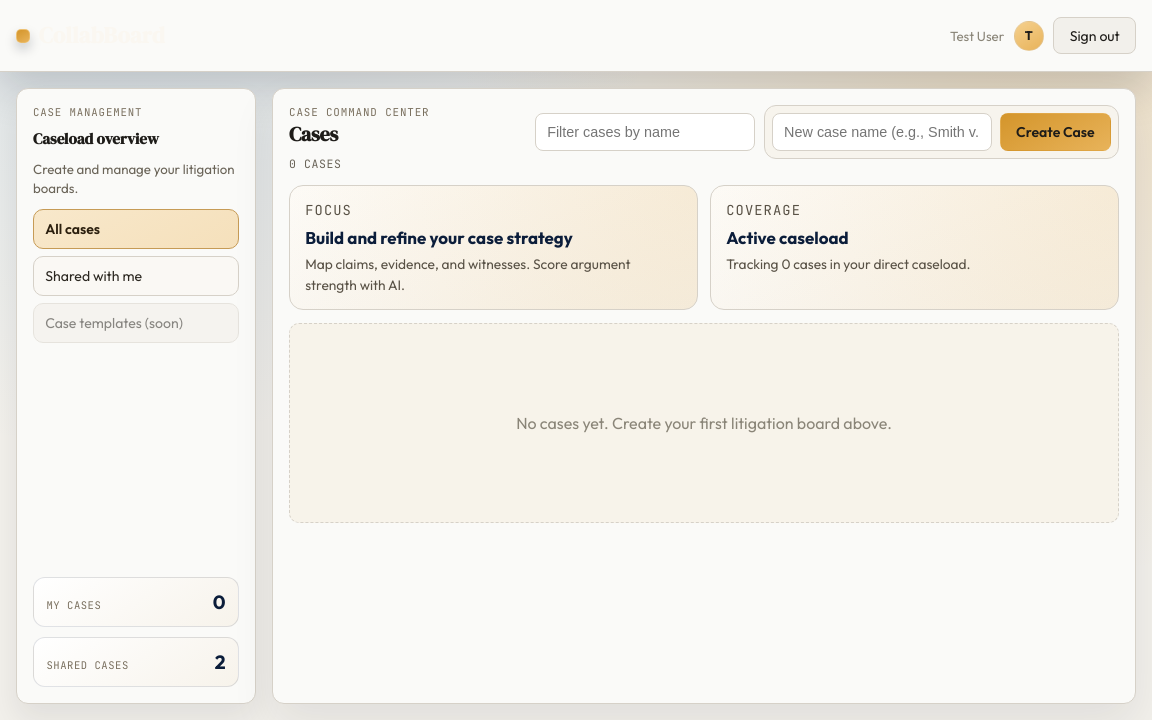
Test: Dashboard › renders shared dashboard sections when Shared with me is selected
The image size is (1152, 720).
Click the button "Shared with me". click: (136, 276)
box: [33,256,239,296]
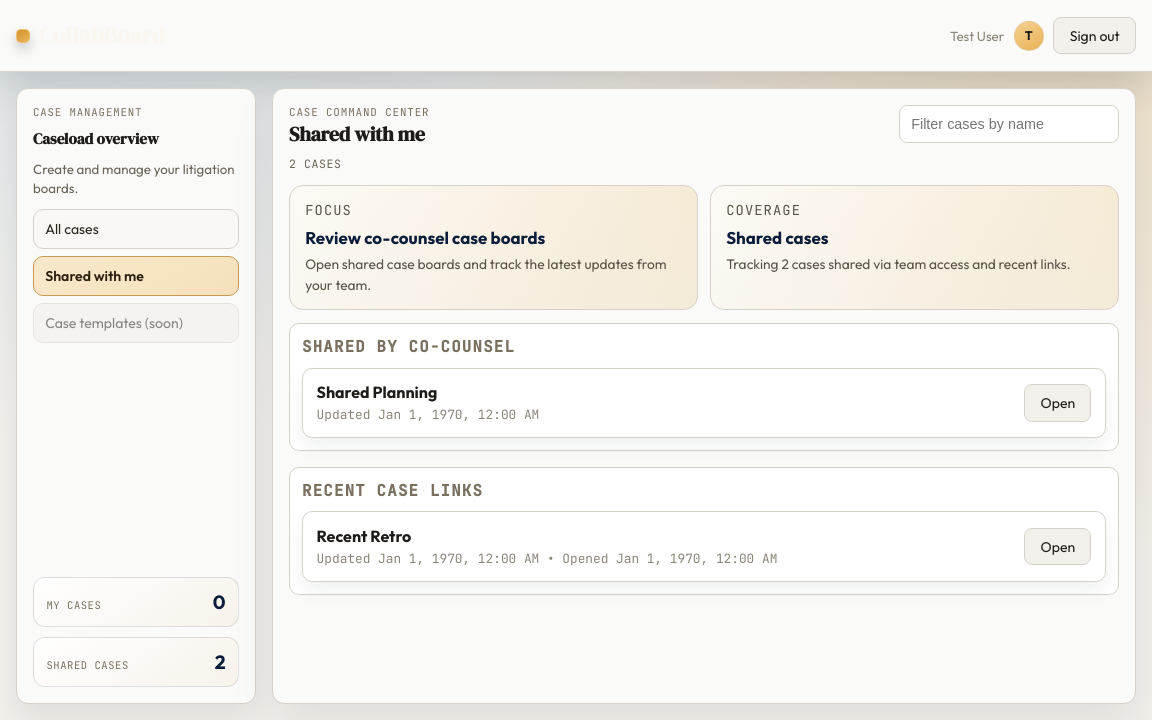
Now the heading "Shared with me" is shown, box [289,124,430,146]
Now the heading "Shared by co-counsel" is shown, box [302,336,515,358]
Now the heading "Recent case links" is shown, box [302,480,483,501]
